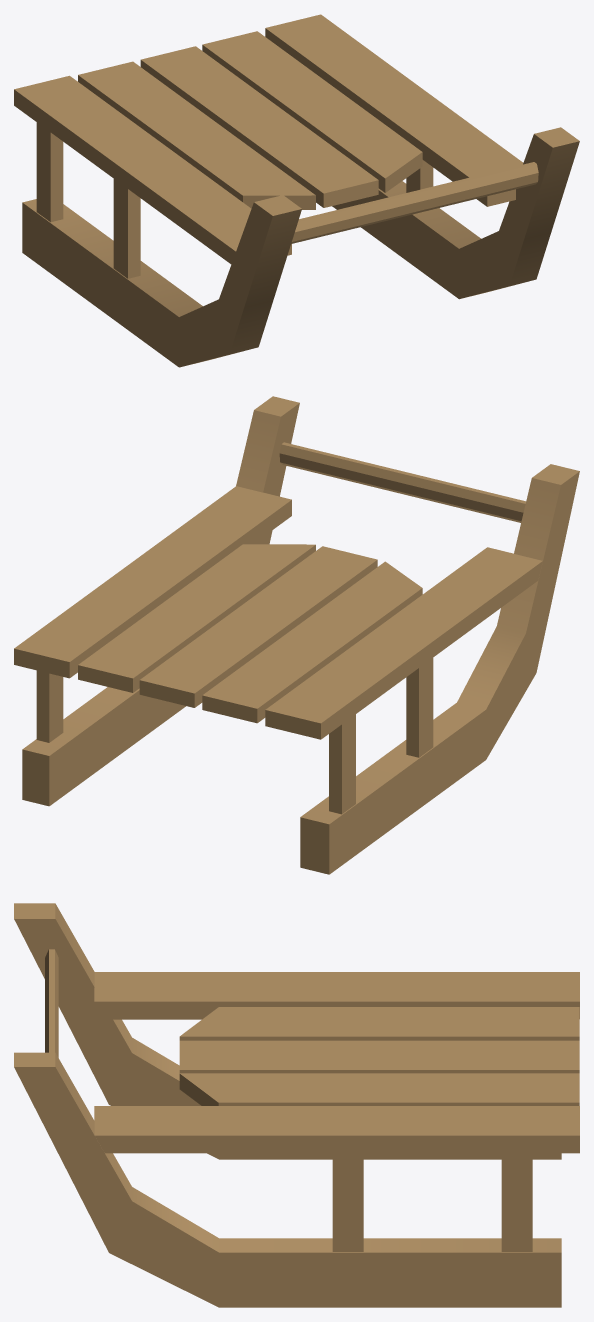
File: Luge_en_Bois.fbx
3 views of the same model, one above another, from view 1: azimuth 30°, elevation 25°; view 2: azimuth 150°, elevation 25°; view 3: azimuth 270°, elevation 25° (orthographic). The views are drawn at different scales.
Visible parts, largest first — view 1: Luge_en_Bois; view 2: Luge_en_Bois; view 3: Luge_en_Bois.
Part boxes in pixels (bbox=[...]): Luge_en_Bois: bbox=[14, 14, 579, 367]; Luge_en_Bois: bbox=[14, 396, 579, 874]; Luge_en_Bois: bbox=[14, 903, 579, 1307].
Bounding box in the file's own units: 67.28 × 46.1 × 98.29.
Materials: 1 (1 with a texture image).
